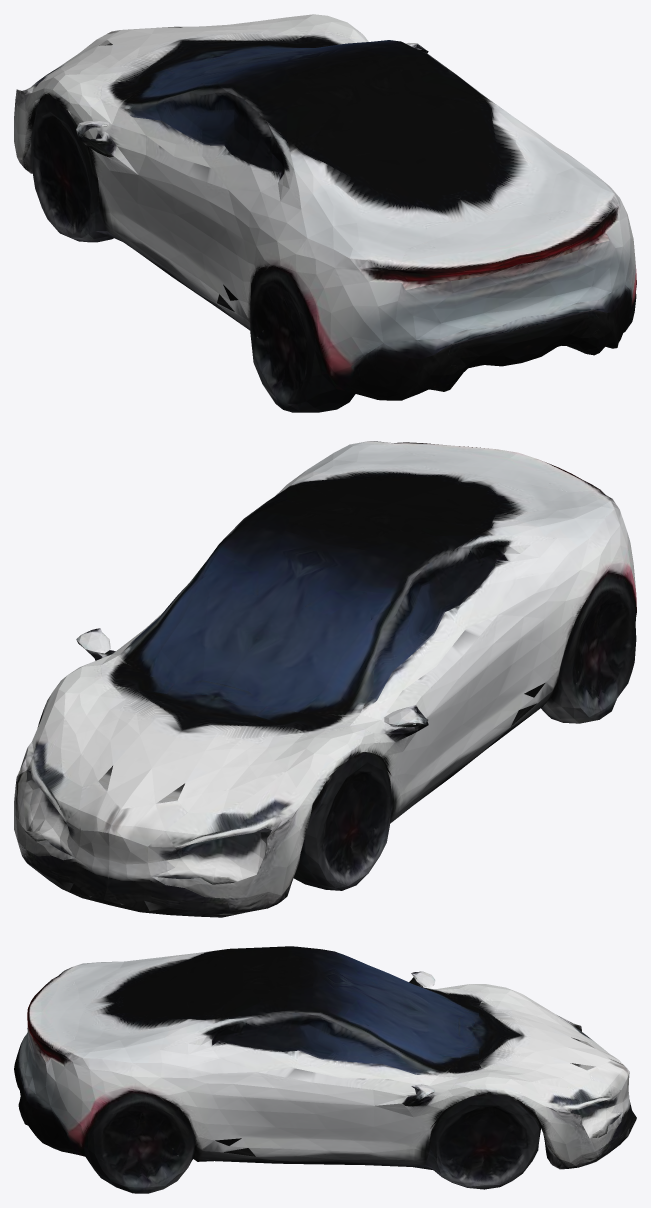
Rendered from hatch.glb.
3 views of the same model, one above another, from view 1: azimuth 30°, elevation 25°; view 2: azimuth 150°, elevation 25°; view 3: azimuth 270°, elevation 25° (orthographic). The views are drawn at different scales.
Parts seen in each view (by area): view 1: world; view 2: world; view 3: world.
Boxes of the visible parts, bbox=[...] form: world: bbox=[14, 14, 636, 412]; world: bbox=[14, 441, 636, 917]; world: bbox=[14, 946, 636, 1193].
Size of the model in its own units: 0.3452 by 0.2165 by 0.7301.
1 material, 1 textured.
